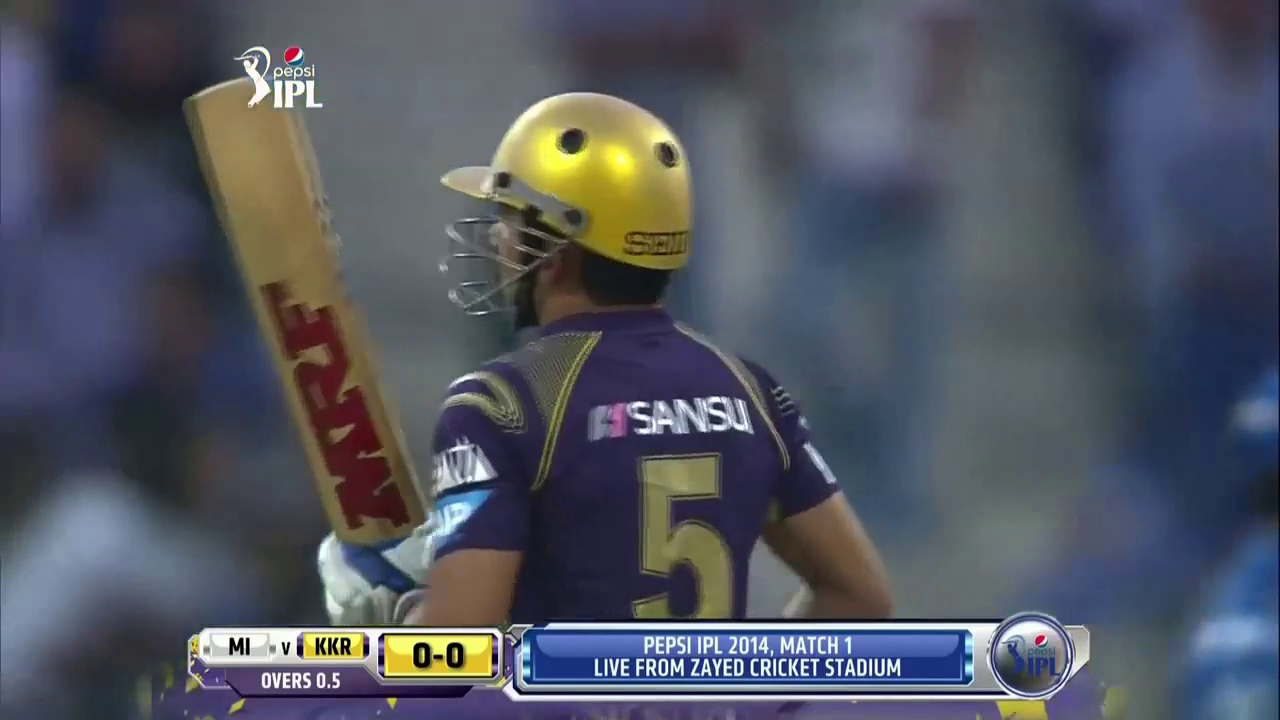bat: (197, 119, 429, 514)
